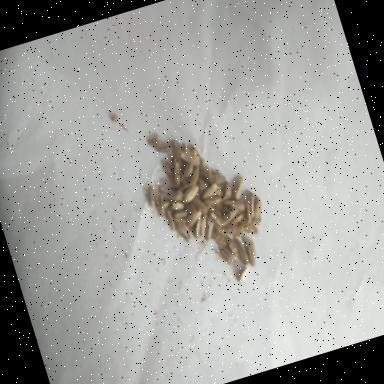pbw: (167, 154, 185, 184), (195, 158, 214, 186), (248, 196, 266, 224), (217, 244, 236, 267), (230, 174, 248, 198), (244, 238, 260, 265), (144, 182, 160, 208), (180, 182, 200, 202), (185, 163, 203, 185), (200, 217, 218, 239), (236, 236, 250, 264), (171, 138, 185, 166), (240, 198, 256, 222), (238, 218, 258, 237), (195, 214, 212, 236), (176, 162, 194, 182), (184, 209, 204, 227), (224, 195, 244, 213), (246, 190, 260, 215), (235, 264, 252, 284), (193, 194, 208, 216), (180, 142, 195, 164), (154, 136, 172, 154), (202, 160, 216, 183), (199, 182, 219, 198), (190, 216, 206, 236), (176, 222, 190, 244), (190, 142, 204, 164), (225, 232, 238, 255), (163, 204, 175, 228), (165, 186, 183, 202), (203, 194, 223, 207), (220, 180, 234, 198), (162, 160, 174, 180), (157, 196, 170, 214), (169, 198, 185, 212), (213, 169, 226, 186), (226, 221, 240, 236), (229, 212, 245, 225), (182, 218, 192, 238), (220, 213, 235, 226), (173, 206, 188, 218), (210, 211, 221, 227), (212, 232, 224, 246), (147, 134, 161, 144), (208, 204, 219, 212), (219, 202, 226, 214)
